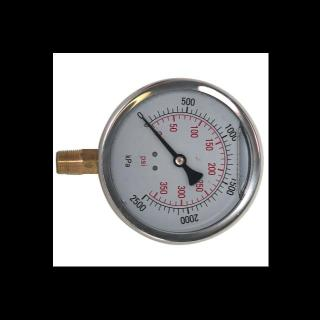gauge: (60, 74, 268, 266), (133, 109, 153, 129), (130, 190, 152, 207), (172, 153, 186, 167), (139, 114, 149, 123)
